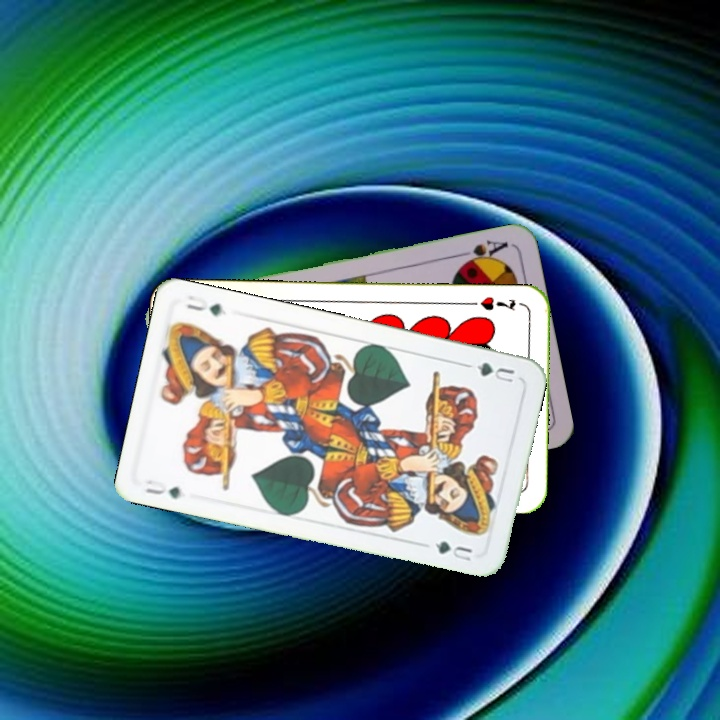GU: (462, 358, 517, 387), (141, 475, 184, 501)
H7: (465, 292, 518, 314)
SA: (453, 235, 511, 269)
